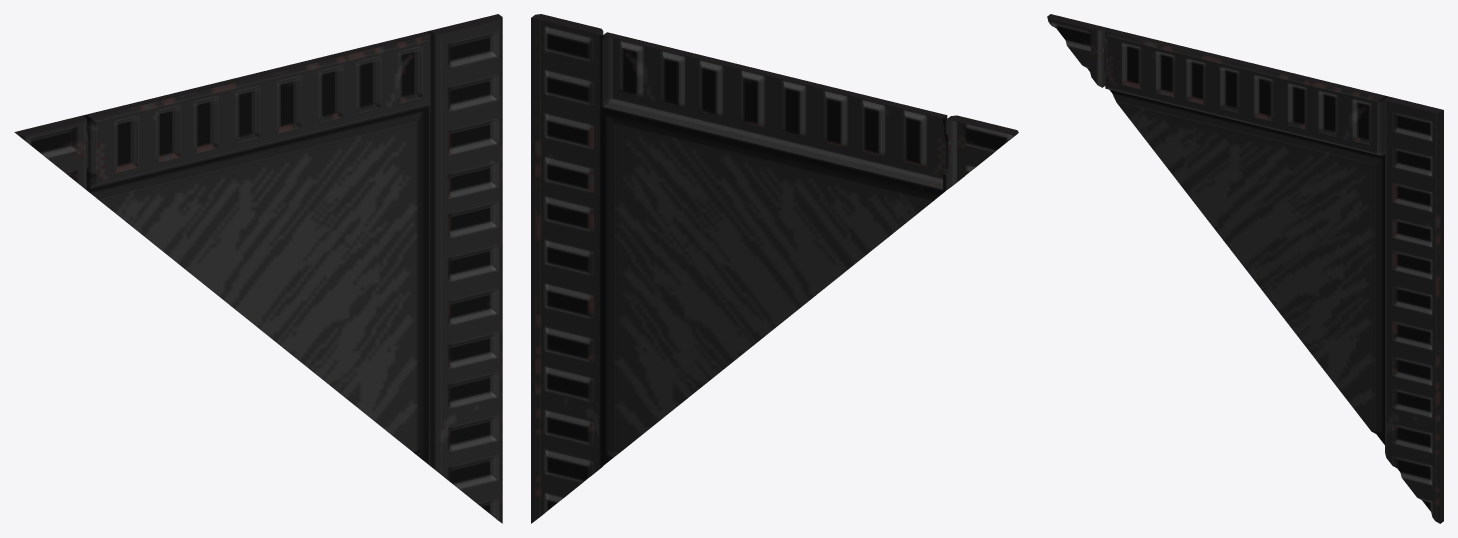
File: exec2_4_slice45.fbx
3 views of the same model, side by side, from view 1: azimuth 30°, elevation 25°; view 2: azimuth 150°, elevation 25°; view 3: azimuth 330°, elevation 25° (orthographic). The views are drawn at different scales.
Parts seen in each view (by area): view 1: exec2_4_mesh; view 2: exec2_4_mesh; view 3: exec2_4_mesh.
Boxes of the visible parts, x1,y1,x2,y2 form: exec2_4_mesh: (14,14,502,523); exec2_4_mesh: (531,14,1018,523); exec2_4_mesh: (1047,14,1443,523).
Bounding box in the file's own units: 256 × 256 × 6.
